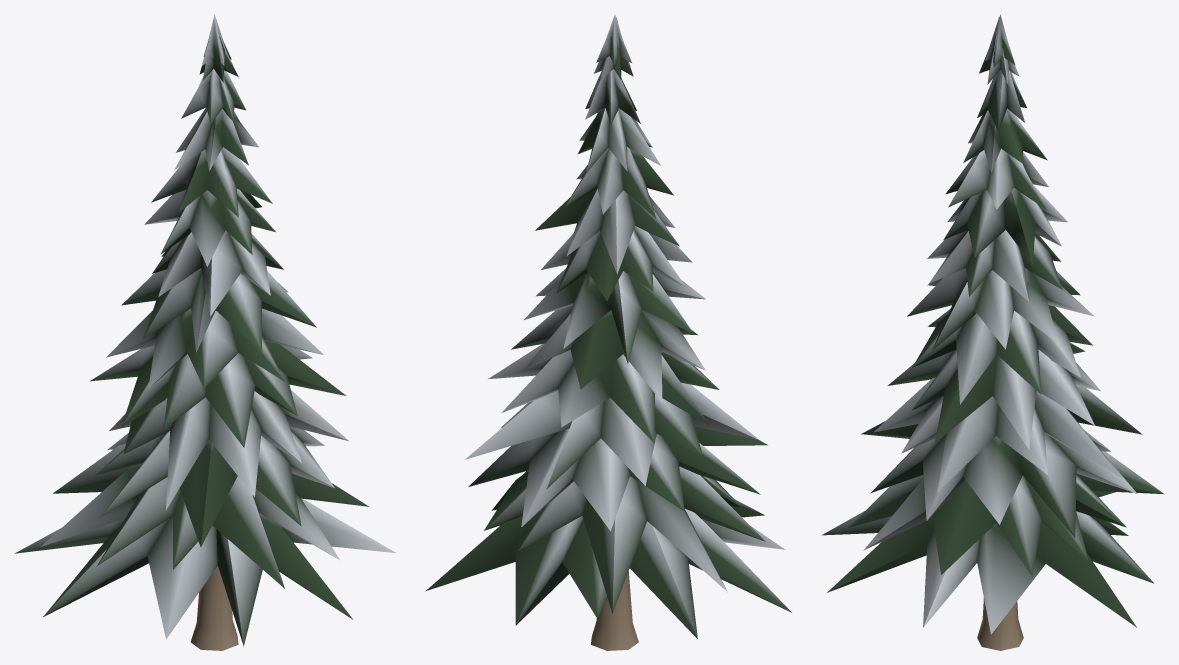
Rendered from snowpine.glb.
3 renders of one model, left to right at view 1: azimuth 30°, elevation 25°; view 2: azimuth 150°, elevation 25°; view 3: azimuth 270°, elevation 25°, orthographic.
Parts seen in each view (by area): view 1: foliage, trunk; view 2: foliage, trunk; view 3: foliage, trunk.
Part boxes in pixels (box(x1,y1,x2,y2)): foliage: box(15, 14, 396, 646); trunk: box(190, 566, 238, 650); foliage: box(425, 14, 791, 639); trunk: box(591, 571, 638, 650); foliage: box(822, 14, 1164, 634); trunk: box(977, 598, 1023, 650).
Bounding box in the file's own units: 5.21 × 9.8 × 4.87.
